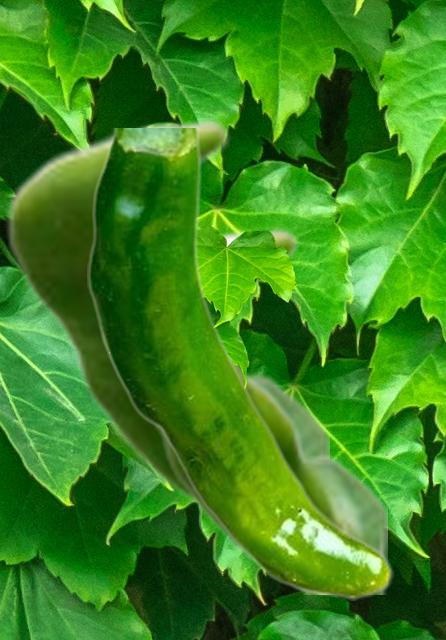green_chili: (87, 128, 392, 599), (5, 118, 328, 513), (99, 227, 386, 593)
